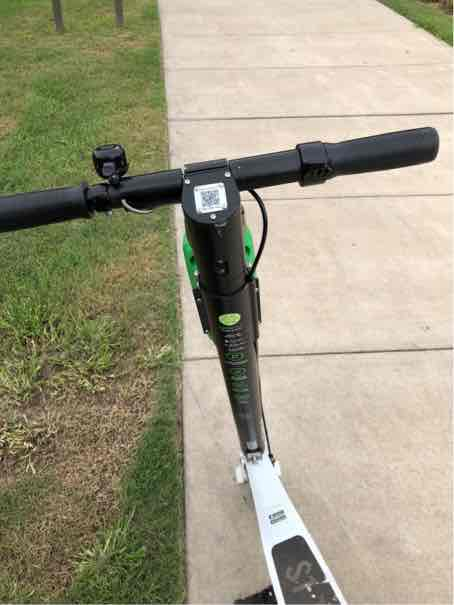scooter: (0, 140, 450, 600)
